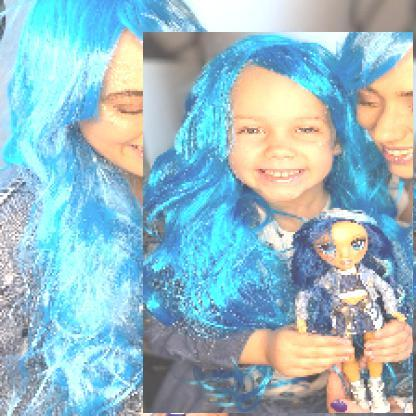child: (144, 33, 415, 415)
